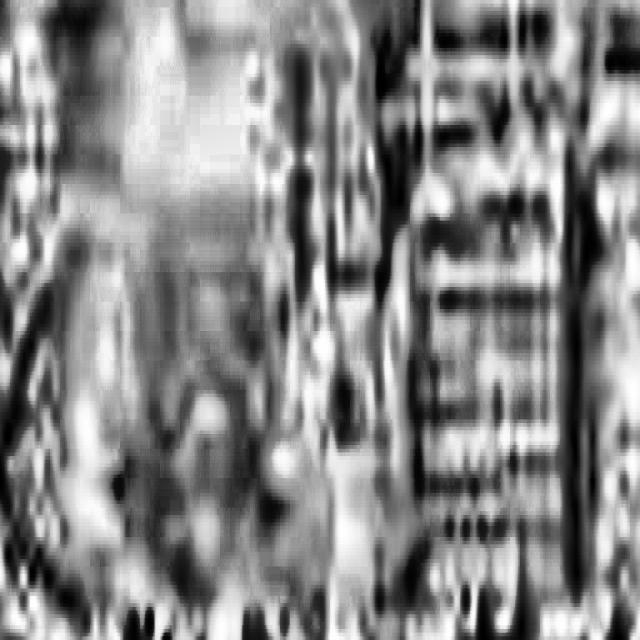dump_truck: (294, 0, 640, 640)
